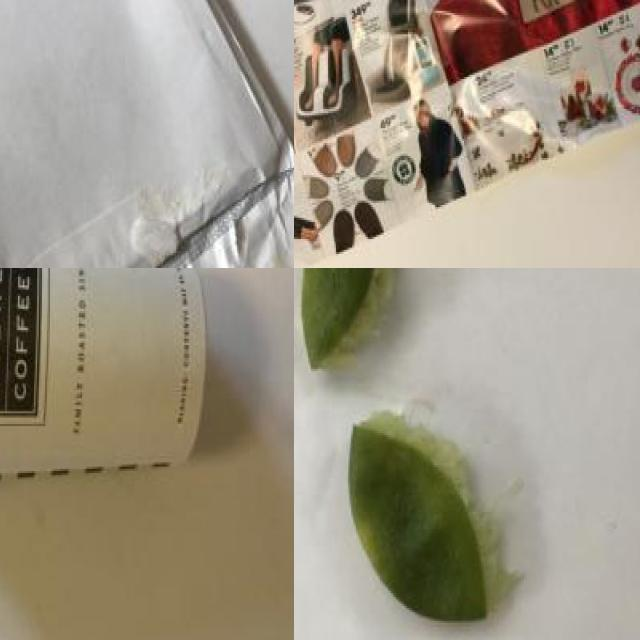compost: (294, 268, 534, 638)
paper: (294, 0, 640, 259), (0, 0, 294, 268)
trash: (0, 268, 220, 512)
